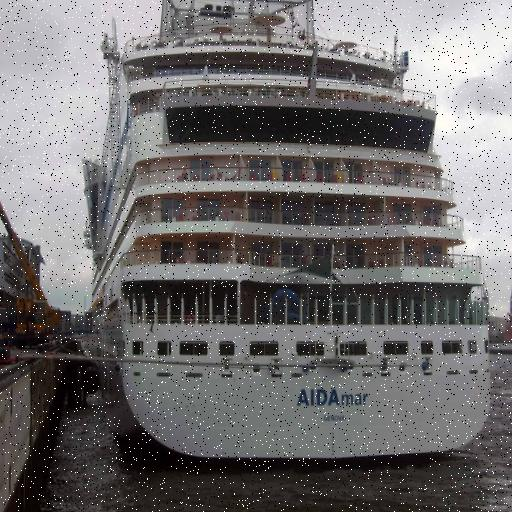cruises: (77, 1, 495, 469)
